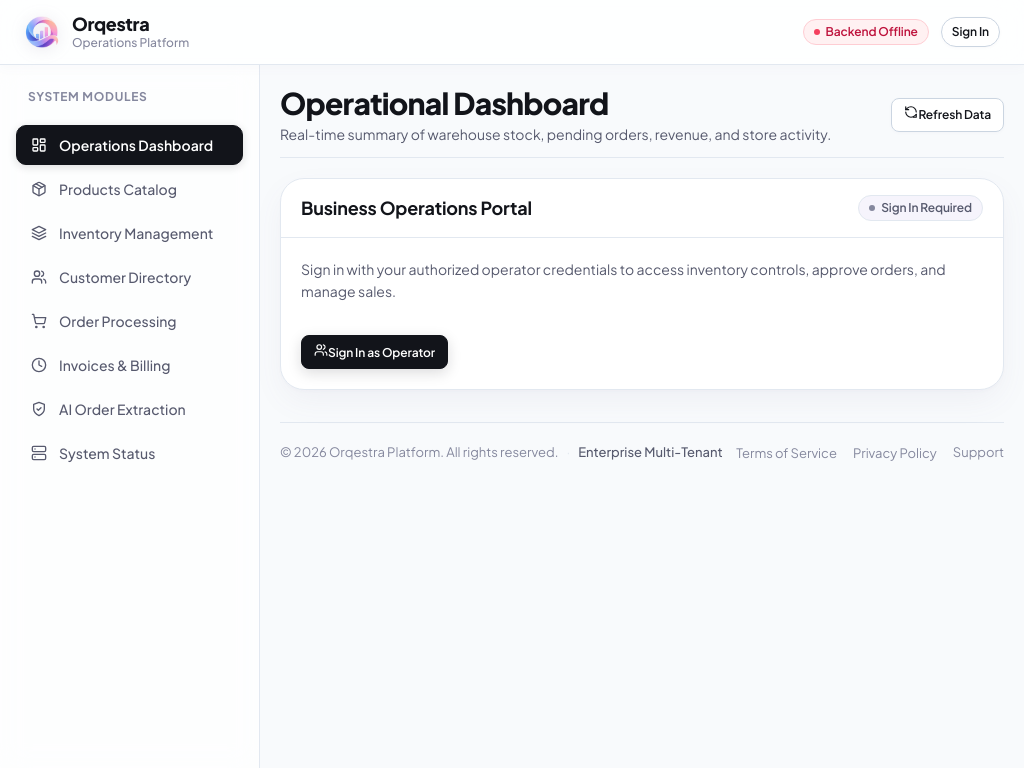
Scenario: App Root Component › switches navigation tabs to render operation pages and shows authentication required state
Click the button "Products Catalog".
click(130, 189)  # box [16,169,243,209]
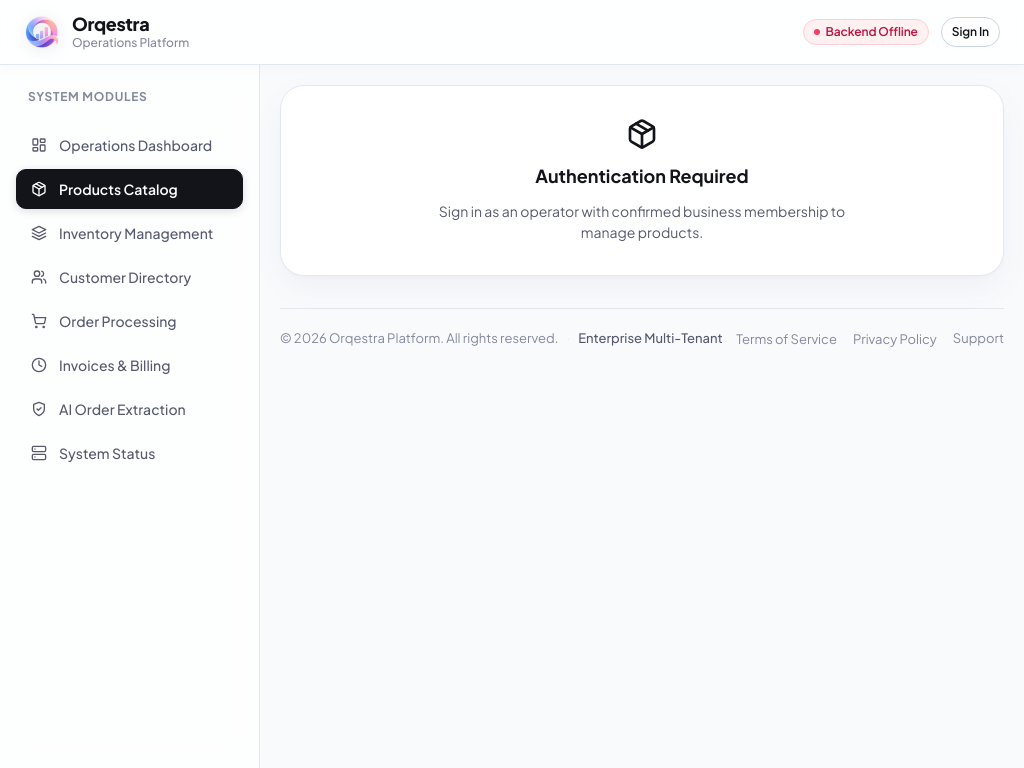
expect the text "Authentication Required" is shown: met, box [535,162,749,189]
expect the text "Sign in as an operator with confirmed business membership to manage products" is shown: met, box [439,202,845,241]
